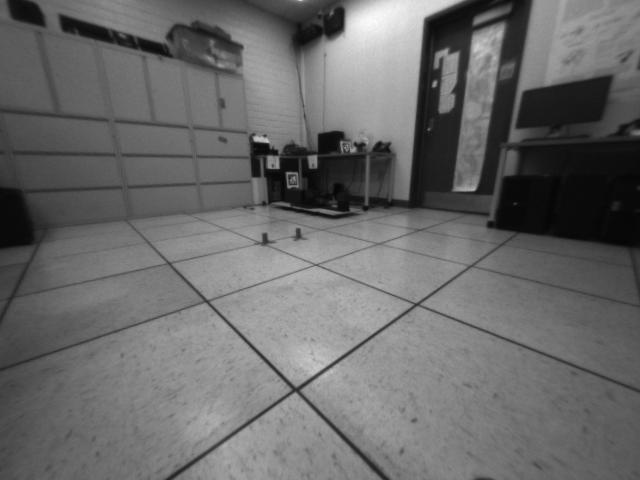X: (253, 230, 275, 247), (288, 227, 306, 242)
